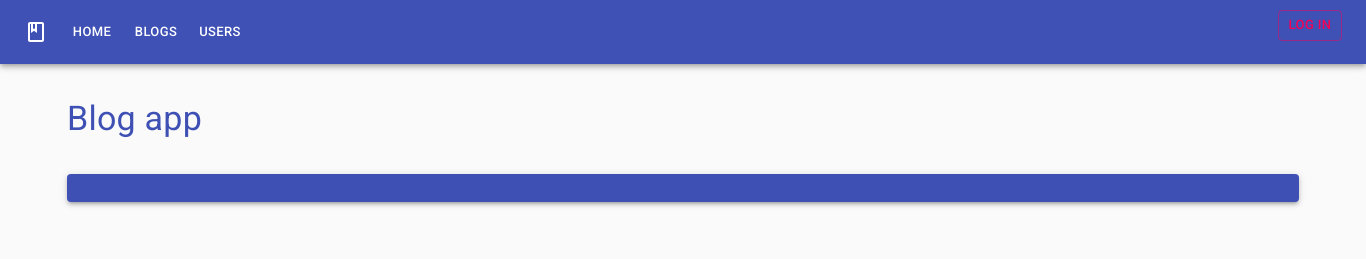
Blog app › Login form is shown
What coordinates should you click on to do the following:
click the button "log in"
I would click on:
 (1310, 26)
Its box is top-left (1278, 10), bottom-right (1342, 41).
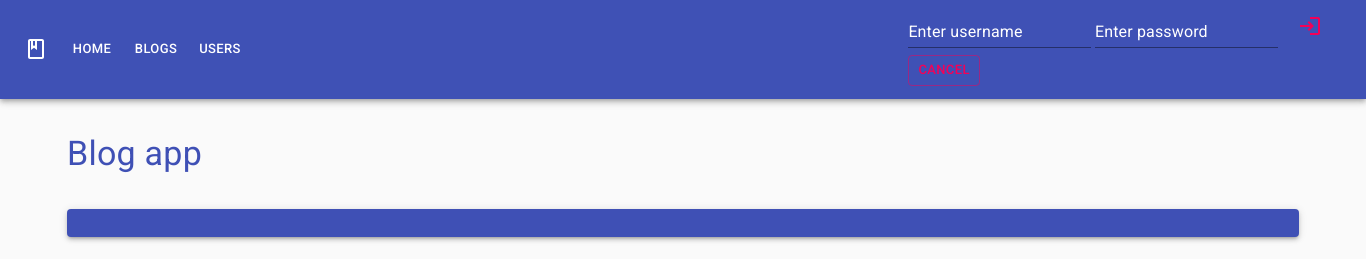
Now the text "username" is shown, box top-left (908, 24), bottom-right (1022, 40)
